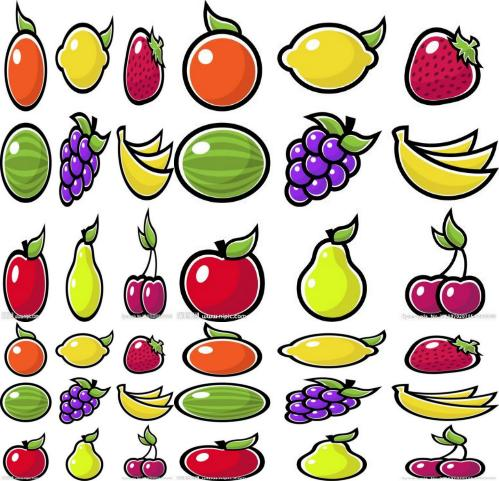fruit1: (180, 0, 263, 111), (3, 0, 47, 111), (180, 321, 263, 376), (3, 321, 47, 376)
fruit2: (276, 105, 383, 206), (55, 105, 112, 206), (276, 373, 383, 423), (55, 373, 112, 423)
fruit3: (389, 120, 498, 200), (115, 120, 174, 200), (389, 380, 498, 420), (115, 380, 174, 420)
fruitn: (398, 204, 487, 317), (120, 204, 167, 317), (398, 422, 487, 478), (120, 422, 167, 478)
